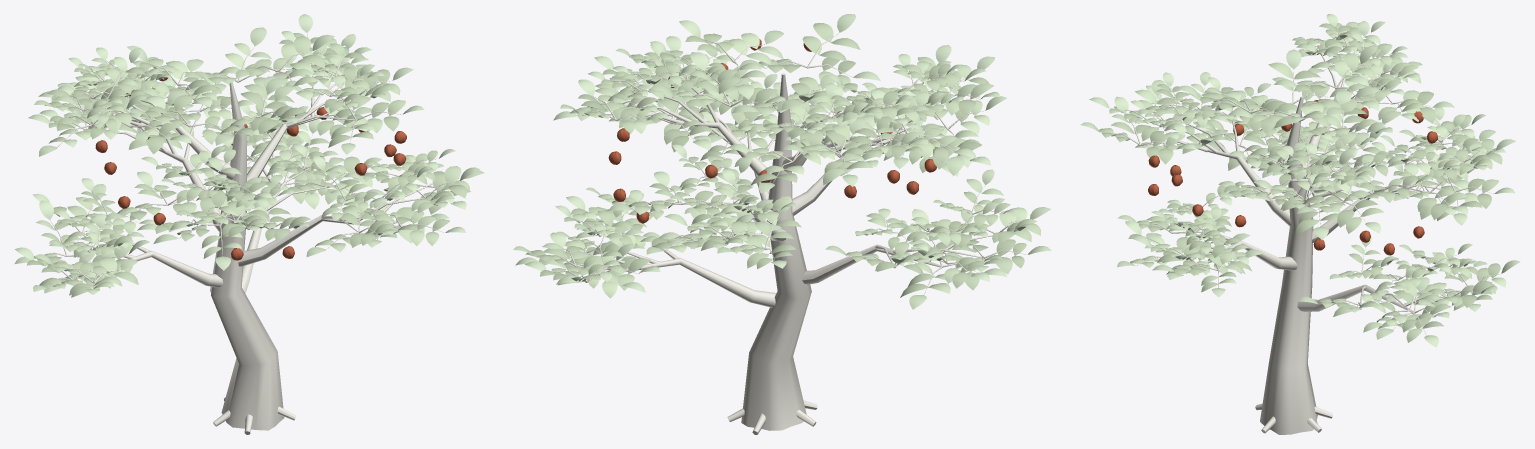
Rendered from SM_WLA_FruitTree_B.fbx.
3 views of the same model, side by side, from view 1: azimuth 30°, elevation 25°; view 2: azimuth 150°, elevation 25°; view 3: azimuth 270°, elevation 25° (orthographic). The views are drawn at different scales.
Parts seen in each view (by area): view 1: SM_WLA_FruitTree_B; view 2: SM_WLA_FruitTree_B; view 3: SM_WLA_FruitTree_B.
Part boxes in pixels (x1=…): SM_WLA_FruitTree_B: x1=14, y1=14, x2=483, y2=434; SM_WLA_FruitTree_B: x1=513, y1=14, x2=1051, y2=434; SM_WLA_FruitTree_B: x1=1080, y1=14, x2=1520, y2=434.
Size of what is drawn, in the model's own units: 5.81 by 6.28 by 5.09.
